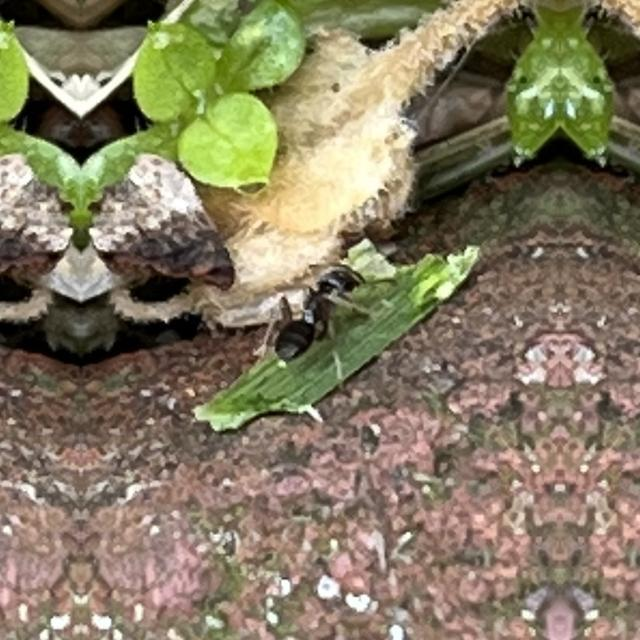Tapinoma: (261, 242, 367, 380)
